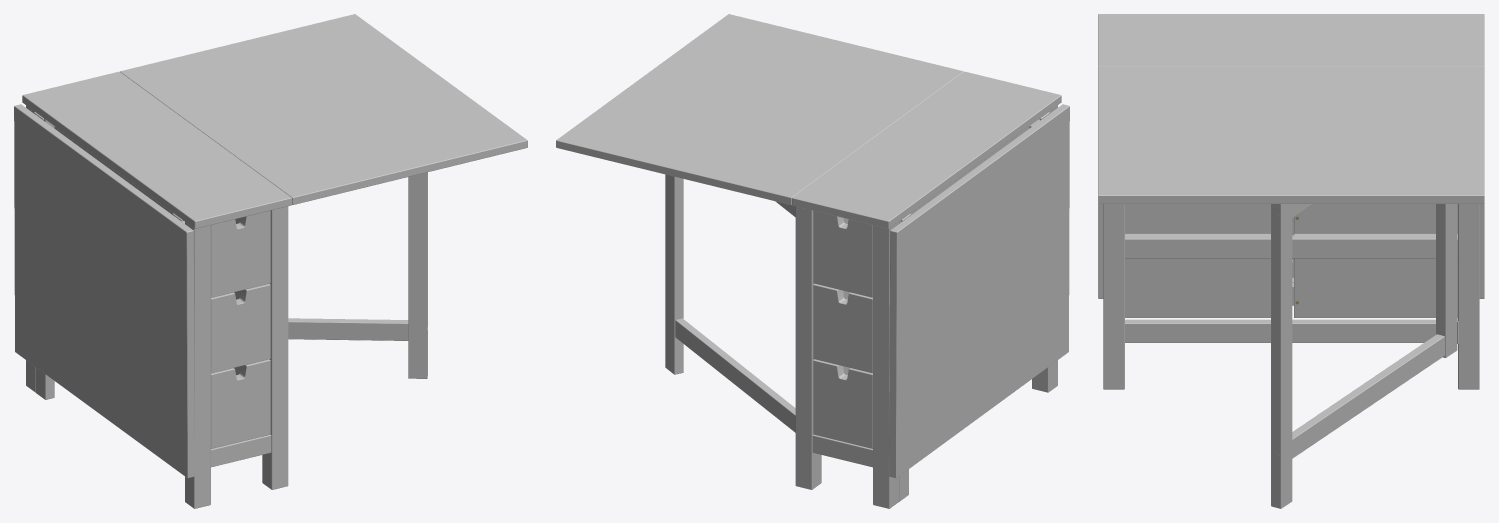
Rendered from Table.fbx.
The picture shows the model from 3 angles, left to right: view 1: azimuth 30°, elevation 25°; view 2: azimuth 150°, elevation 25°; view 3: azimuth 270°, elevation 25°; orthographic projection. The views are drawn at different scales.
Parts seen in each view (by area): view 1: Table_Top_Left, Table_Top_Right, Table_Top_Center, Center_Frame, Leg_Right, Drawer_Front_Mid, Drawer_Front_Bottom, Drawer_Front_Top; view 2: Table_Top_Left, Table_Top_Right, Table_Top_Center, Center_Frame, Leg_Right, Drawer_Back_Mid, Drawer_Back_Bottom, Drawer_Back_Top; view 3: Table_Top_Right, Center_Frame, Table_Top_Center, Leg_Right, Drawer_Front_Bottom, Drawer_Back_Bottom, Drawer_Front_Mid, Drawer_Back_Mid, Table_Top_Left.
Boxes of the visible parts, left/top/right/bottom form: Table_Top_Left: left=14, top=104, right=194, bottom=478; Table_Top_Right: left=120, top=14, right=527, bottom=204; Table_Top_Center: left=22, top=71, right=291, bottom=228; Center_Frame: left=26, top=105, right=288, bottom=508; Leg_Right: left=288, top=172, right=427, bottom=378; Drawer_Front_Mid: left=211, top=283, right=270, bottom=373; Drawer_Front_Bottom: left=211, top=359, right=270, bottom=448; Drawer_Front_Top: left=211, top=210, right=270, bottom=297; Table_Top_Left: left=889, top=104, right=1069, bottom=478; Table_Top_Right: left=556, top=14, right=963, bottom=204; Table_Top_Center: left=792, top=71, right=1061, bottom=228; Center_Frame: left=795, top=105, right=1057, bottom=508; Leg_Right: left=665, top=174, right=795, bottom=432; Drawer_Back_Mid: left=813, top=283, right=872, bottom=373; Drawer_Back_Bottom: left=813, top=359, right=872, bottom=448; Drawer_Back_Top: left=813, top=210, right=872, bottom=297; Table_Top_Right: left=1098, top=67, right=1484, bottom=203; Center_Frame: left=1103, top=204, right=1479, bottom=389; Table_Top_Center: left=1098, top=14, right=1484, bottom=67; Leg_Right: left=1271, top=204, right=1457, bottom=508; Drawer_Front_Bottom: left=1125, top=233, right=1270, bottom=317; Drawer_Back_Bottom: left=1294, top=233, right=1457, bottom=317; Drawer_Front_Mid: left=1125, top=204, right=1270, bottom=233; Drawer_Back_Mid: left=1294, top=204, right=1457, bottom=233; Table_Top_Left: left=1098, top=203, right=1484, bottom=298.
Size of the model in its own units: 91.25 by 74 by 80.
